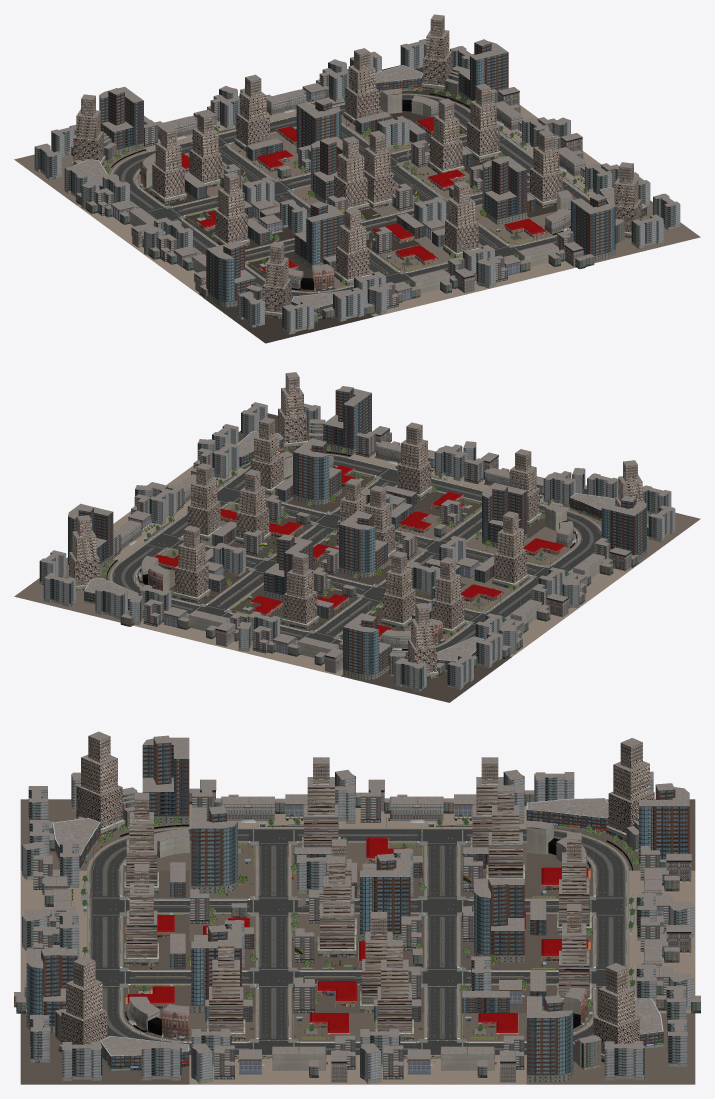
The model's file is map.glb.
3 views of the same model, one above another, from view 1: azimuth 30°, elevation 25°; view 2: azimuth 150°, elevation 25°; view 3: azimuth 270°, elevation 25° (orthographic). The views are drawn at different scales.
Visible parts, largest first — view 1: PR_Skyscraper_013_005_4, PR_Skyscraper_013_005_2, PR_Skyscraper_013_005, PR_Skyscraper_013_005_1, PR_Skyscraper_013_005_6, PR_Skyscraper_013_005_3, PR_SkyscraperC_003_1, PR_SkyscraperC_003_5, PR_SkyscraperC_003, PR_SkyscraperC_003_2, PR_SkyscraperC_004_3, PR_SkyscraperC_003_6 (+68 smaller); view 2: PR_Skyscraper_013_005_5, PR_Skyscraper_013_005, PR_Skyscraper_013_005_4, PR_Skyscraper_013_005_2, PR_Skyscraper_013_005_1, PR_SkyscraperC_003_3, PR_SkyscraperC_003_4, PR_SkyscraperC_003_7, PR_SkyscraperC_004_1, PR_Skyscraper_013_005_6, PR_SkyscraperC_003_2, PR_SkyscraperC_003_1 (+66 smaller); view 3: PR_Skyscraper_013_005_7, PR_Skyscraper_013_005_3, PR_Skyscraper_013_005_1, PR_Skyscraper_013_005_6, PR_SkyscraperC_002_1, TwoLanesD_to_TwoLanesD002, TwoLanesD_to_TwoLanesD002_2, PR_Skyscraper_013_005_5, TwoLanesD_to_TwoLanesD003, TwoLanesD_to_TwoLanesD002_3, PR_Skyscraper_013_005, ground_pavement004_3 (+107 smaller).
Part boxes in pixels (box(x1,y1,x2,y2)): PR_Skyscraper_013_005_4: box(482, 156, 527, 224); PR_Skyscraper_013_005_2: box(571, 194, 615, 260); PR_Skyscraper_013_005: box(99, 86, 143, 154); PR_Skyscraper_013_005_1: box(206, 241, 256, 307); PR_Skyscraper_013_005_6: box(294, 201, 344, 269); PR_Skyscraper_013_005_3: box(458, 39, 508, 101); PR_SkyscraperC_003_1: box(150, 126, 186, 204); PR_SkyscraperC_003_5: box(465, 84, 501, 162); PR_SkyscraperC_003: box(334, 207, 371, 285); PR_SkyscraperC_003_2: box(443, 181, 480, 257); PR_SkyscraperC_004_3: box(428, 98, 464, 173); PR_SkyscraperC_003_6: box(528, 129, 562, 208); PR_Skyscraper_013_005_5: box(339, 511, 387, 577); PR_Skyscraper_013_005: box(343, 613, 391, 679); PR_Skyscraper_013_005_4: box(293, 438, 341, 505); PR_Skyscraper_013_005_2: box(323, 386, 371, 454); PR_Skyscraper_013_005_1: box(601, 495, 646, 560); PR_SkyscraperC_003_3: box(281, 552, 319, 630); PR_SkyscraperC_003_4: box(173, 525, 210, 603); PR_SkyscraperC_003_7: box(492, 511, 529, 589); PR_SkyscraperC_004_1: box(381, 551, 415, 629); PR_Skyscraper_013_005_6: box(482, 482, 527, 547); PR_SkyscraperC_003_2: box(397, 422, 433, 500); PR_SkyscraperC_003_1: box(431, 557, 466, 635); PR_Skyscraper_013_005_7: box(474, 878, 524, 962); PR_Skyscraper_013_005_3: box(527, 995, 573, 1081); PR_Skyscraper_013_005_1: box(142, 735, 189, 823); PR_Skyscraper_013_005_6: box(191, 806, 237, 892); PR_SkyscraperC_002_1: box(73, 731, 125, 836); TwoLanesD_to_TwoLanesD002: box(189, 942, 357, 1013); TwoLanesD_to_TwoLanesD002_2: box(189, 870, 357, 942); PR_Skyscraper_013_005_5: box(360, 853, 410, 941); TwoLanesD_to_TwoLanesD003: box(87, 870, 189, 942); TwoLanesD_to_TwoLanesD002_3: box(358, 942, 526, 1013); PR_Skyscraper_013_005: box(639, 783, 689, 870); ground_pavement004_3: box(526, 1013, 695, 1084).
Bounding box in the file's own units: 600 × 89.21 × 611.
11 materials, 10 textured.
